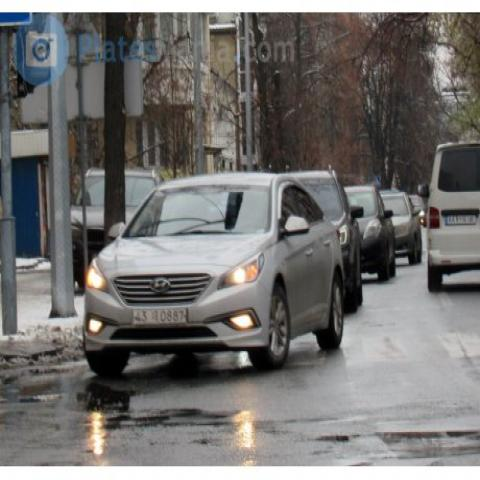LP: (121, 298, 195, 334)
